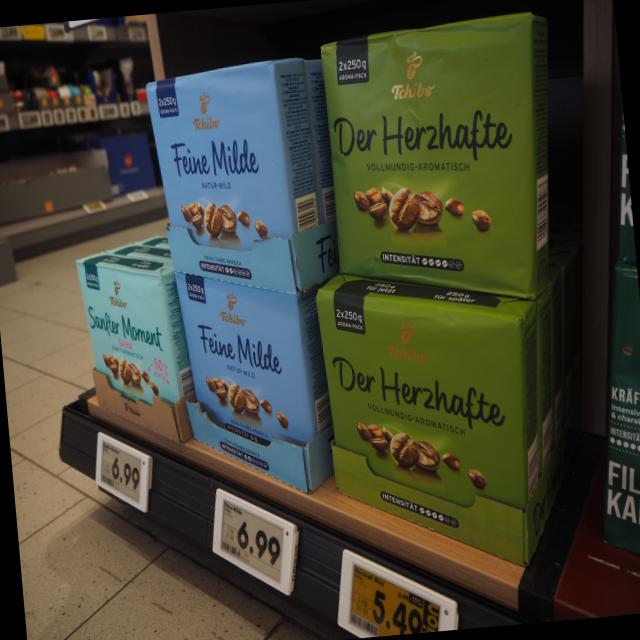Empty Shelf: (50, 87, 169, 267)
FM Gemahlen: (141, 51, 330, 282), (172, 270, 328, 489)
Herzhatfe Mundig: (312, 266, 542, 576), (319, 6, 550, 304)
SM Gemahlen: (71, 257, 199, 451)
